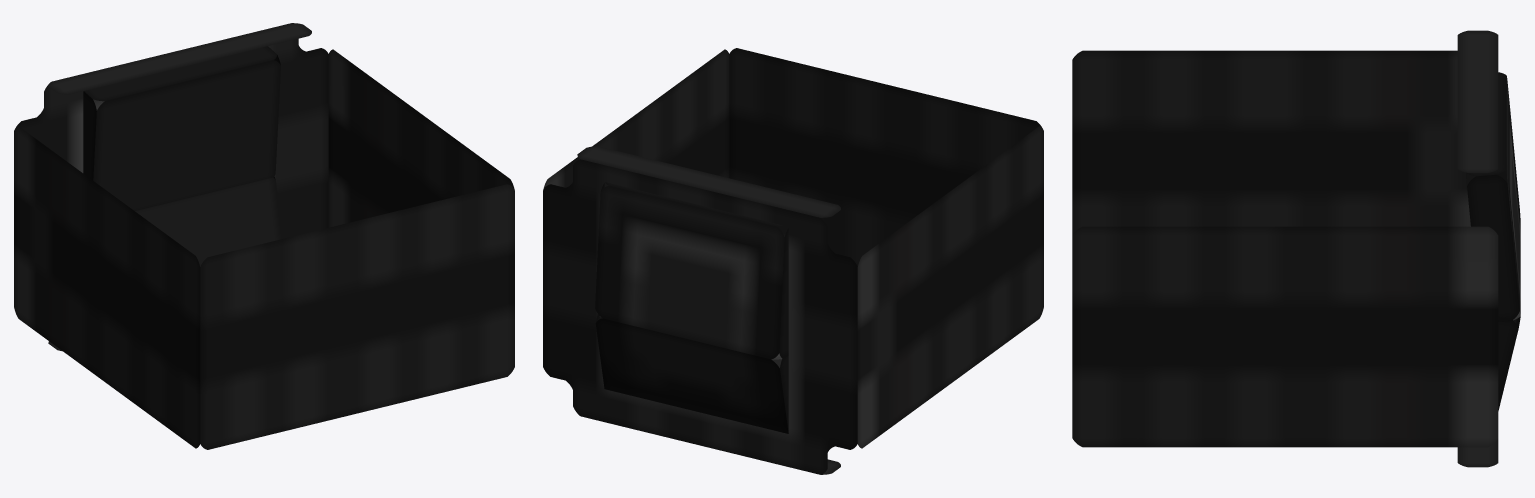
File: taro_p_l.obj
3 views of the same model, side by side, from view 1: azimuth 30°, elevation 25°; view 2: azimuth 150°, elevation 25°; view 3: azimuth 270°, elevation 25° (orthographic). The views are drawn at different scales.
Visible parts, largest first — view 1: mesh; view 2: mesh; view 3: mesh.
Boxes of the visible parts, box(x1,y1,x2,y2) form: mesh: box(14, 23, 514, 449); mesh: box(543, 48, 1043, 474); mesh: box(1072, 30, 1520, 467).
Bounding box in the file's own units: 0.3203 × 0.25 × 0.3453.
